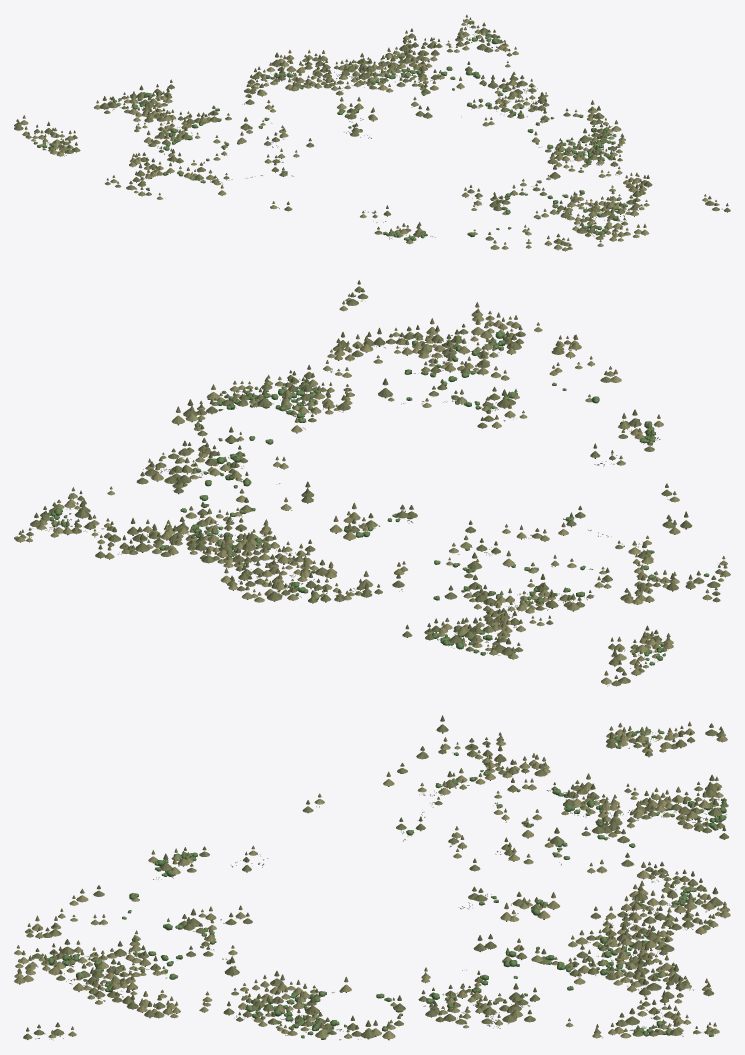
Rendered from Foliage_P2.fbx.
3 renders of one model, top to bottom at view 1: azimuth 30°, elevation 25°; view 2: azimuth 150°, elevation 25°; view 3: azimuth 270°, elevation 25°, orthographic. The views are drawn at different scales.
Bounding box in the file's own units: 61461 × 6176 × 61561.
